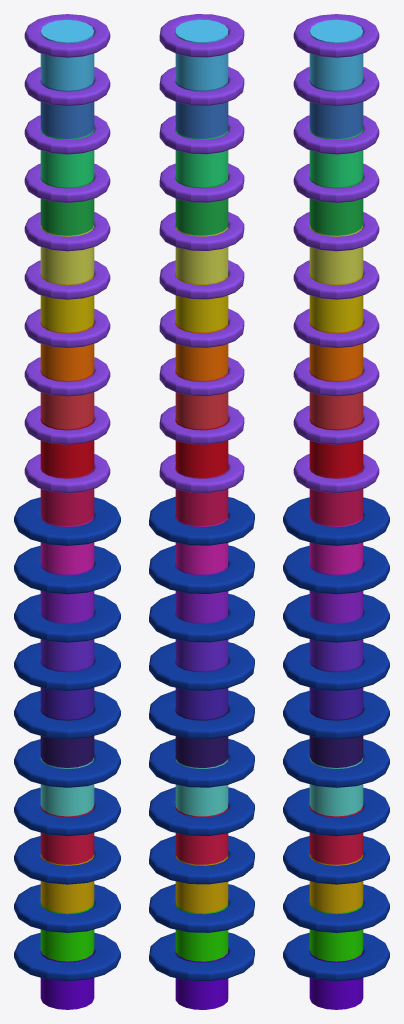
3 views of the same model, side by side, from view 1: azimuth 90°, elevation 25°; view 2: azimuth 210°, elevation 25°; view 3: azimuth 270°, elevation 25° (orthographic).
Parts seen in each view (by area): view 1: Final1, Final1.005, Final1.009, Final1.006, Final1.002, Final1.004, Final1.007, Final1.008, Final1.003, Final1.010, Final1.017, Final1.014 (+68 smaller); view 2: Final1, Final1.002, Final1.007, Final1.005, Final1.010, Final1.004, Final1.009, Final1.006, Final1.008, Final1.003, Final1.014, Final1.018 (+58 smaller); view 3: Final1, Final1.005, Final1.009, Final1.006, Final1.002, Final1.004, Final1.007, Final1.008, Final1.003, Final1.010, Final1.017, Final1.014 (+68 smaller).
Part boxes in pixels (x1=…): Final1: x1=40, y1=19, x2=94, y2=90; Final1.005: x1=40, y1=225, x2=94, y2=284; Final1.009: x1=40, y1=418, x2=94, y2=477; Final1.006: x1=40, y1=273, x2=94, y2=332; Final1.002: x1=40, y1=80, x2=94, y2=138; Final1.004: x1=40, y1=176, x2=94, y2=235; Final1.007: x1=40, y1=321, x2=94, y2=380; Final1.008: x1=40, y1=370, x2=94, y2=429; Final1.003: x1=40, y1=128, x2=94, y2=187; Final1.010: x1=40, y1=467, x2=94, y2=525; Final1.017: x1=40, y1=805, x2=94, y2=864; Final1.014: x1=40, y1=660, x2=94, y2=719; Final1: x1=175, y1=19, x2=228, y2=90; Final1.002: x1=175, y1=80, x2=228, y2=138; Final1.007: x1=175, y1=322, x2=228, y2=380; Final1.005: x1=175, y1=225, x2=228, y2=283; Final1.010: x1=175, y1=467, x2=228, y2=525; Final1.004: x1=175, y1=177, x2=228, y2=235; Final1.009: x1=175, y1=419, x2=228, y2=477; Final1.006: x1=175, y1=273, x2=228, y2=332; Final1.008: x1=175, y1=370, x2=228, y2=429; Final1.003: x1=175, y1=128, x2=228, y2=187; Final1.014: x1=175, y1=661, x2=228, y2=719; Final1.018: x1=175, y1=854, x2=228, y2=913; Final1: x1=309, y1=19, x2=363, y2=90; Final1.005: x1=309, y1=225, x2=363, y2=284; Final1.009: x1=309, y1=418, x2=363, y2=477; Final1.006: x1=309, y1=273, x2=363, y2=332; Final1.002: x1=309, y1=80, x2=363, y2=138; Final1.004: x1=309, y1=176, x2=363, y2=235; Final1.007: x1=309, y1=321, x2=363, y2=380; Final1.008: x1=309, y1=370, x2=363, y2=429; Final1.003: x1=309, y1=128, x2=363, y2=187; Final1.010: x1=309, y1=467, x2=363, y2=525; Final1.017: x1=309, y1=805, x2=363, y2=864; Final1.014: x1=309, y1=660, x2=363, y2=719.
Size of the model in its own units: 4 by 40 by 4.
